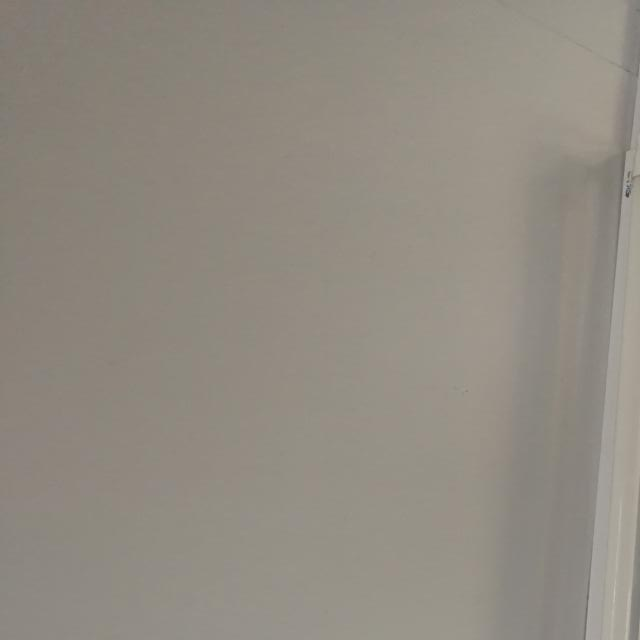fluorescent tube: (522, 59, 640, 640)
